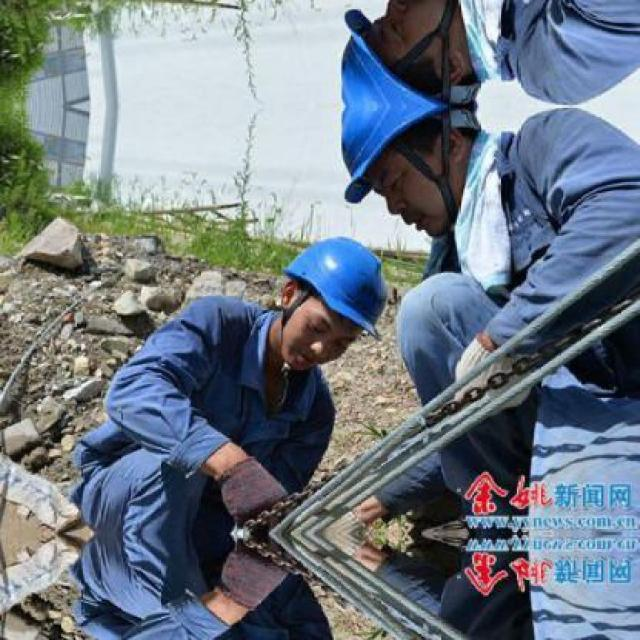helmet: (337, 105, 486, 205), (282, 233, 389, 333)
